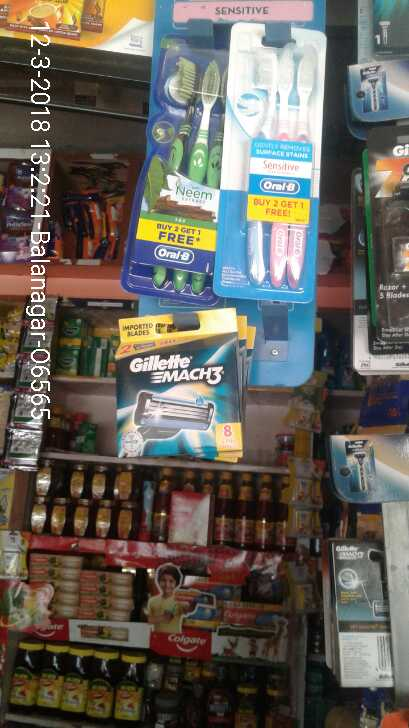beauty: (117, 346, 255, 464)
pharmacy: (237, 36, 327, 296), (146, 43, 221, 295)
